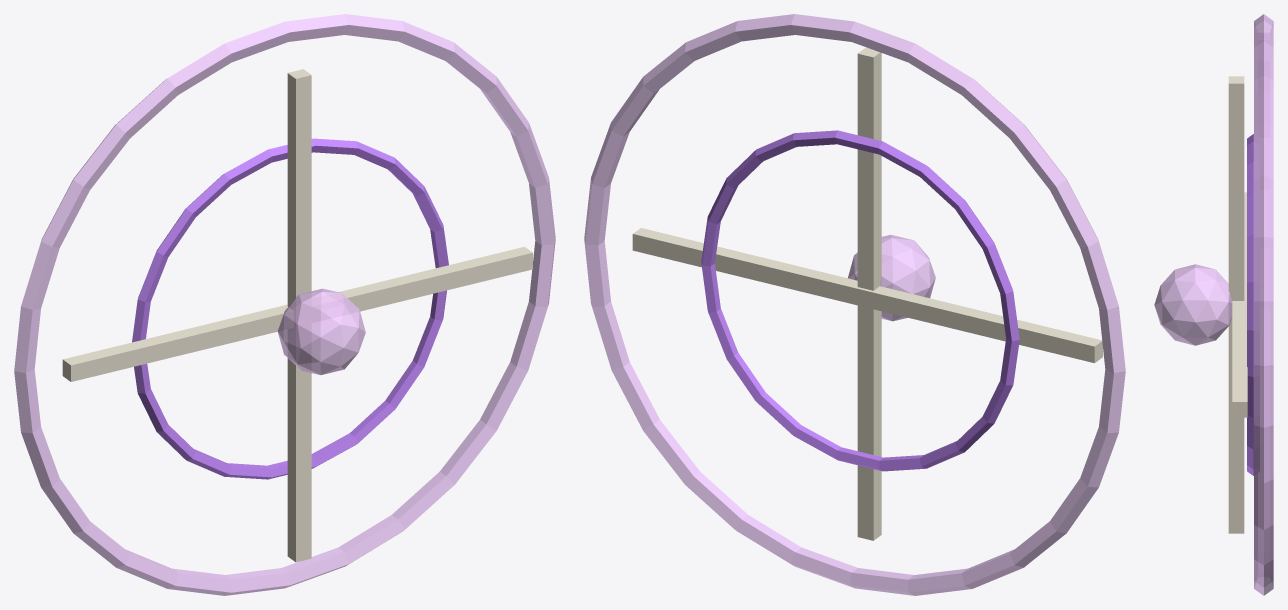
The model's file is 06_combat_flow_anchor.glb.
3 renders of one model, left to right at view 1: azimuth 30°, elevation 25°; view 2: azimuth 150°, elevation 25°; view 3: azimuth 270°, elevation 25°, orthographic. The views are drawn at different scales.
Parts seen in each view (by area): view 1: flow_outer_ring, flow_inner_ring, flow_lane_cross, flow_lane_forward, perfect_flow_core; view 2: flow_outer_ring, flow_inner_ring, flow_lane_forward, flow_lane_cross, perfect_flow_core; view 3: flow_outer_ring, flow_lane_cross, perfect_flow_core, flow_inner_ring, flow_lane_forward.
Boxes of the visible parts, x1=… form: flow_outer_ring: x1=14, y1=14, x2=555, y2=595; flow_inner_ring: x1=132, y1=138, x2=448, y2=479; flow_lane_cross: x1=287, y1=69, x2=311, y2=562; flow_lane_forward: x1=62, y1=246, x2=532, y2=381; perfect_flow_core: x1=277, y1=288, x2=365, y2=374; flow_outer_ring: x1=584, y1=14, x2=1125, y2=595; flow_inner_ring: x1=701, y1=130, x2=1019, y2=471; flow_lane_forward: x1=632, y1=228, x2=1102, y2=363; flow_lane_cross: x1=857, y1=47, x2=881, y2=540; perfect_flow_core: x1=848, y1=235, x2=935, y2=321; flow_outer_ring: x1=1254, y1=14, x2=1273, y2=595; flow_lane_cross: x1=1228, y1=76, x2=1244, y2=533; perfect_flow_core: x1=1154, y1=264, x2=1232, y2=345; flow_inner_ring: x1=1247, y1=134, x2=1259, y2=475; flow_lane_forward: x1=1232, y1=192, x2=1247, y2=417.
Bounding box in the file's own units: 1.7 × 1.7 × 0.3485.
